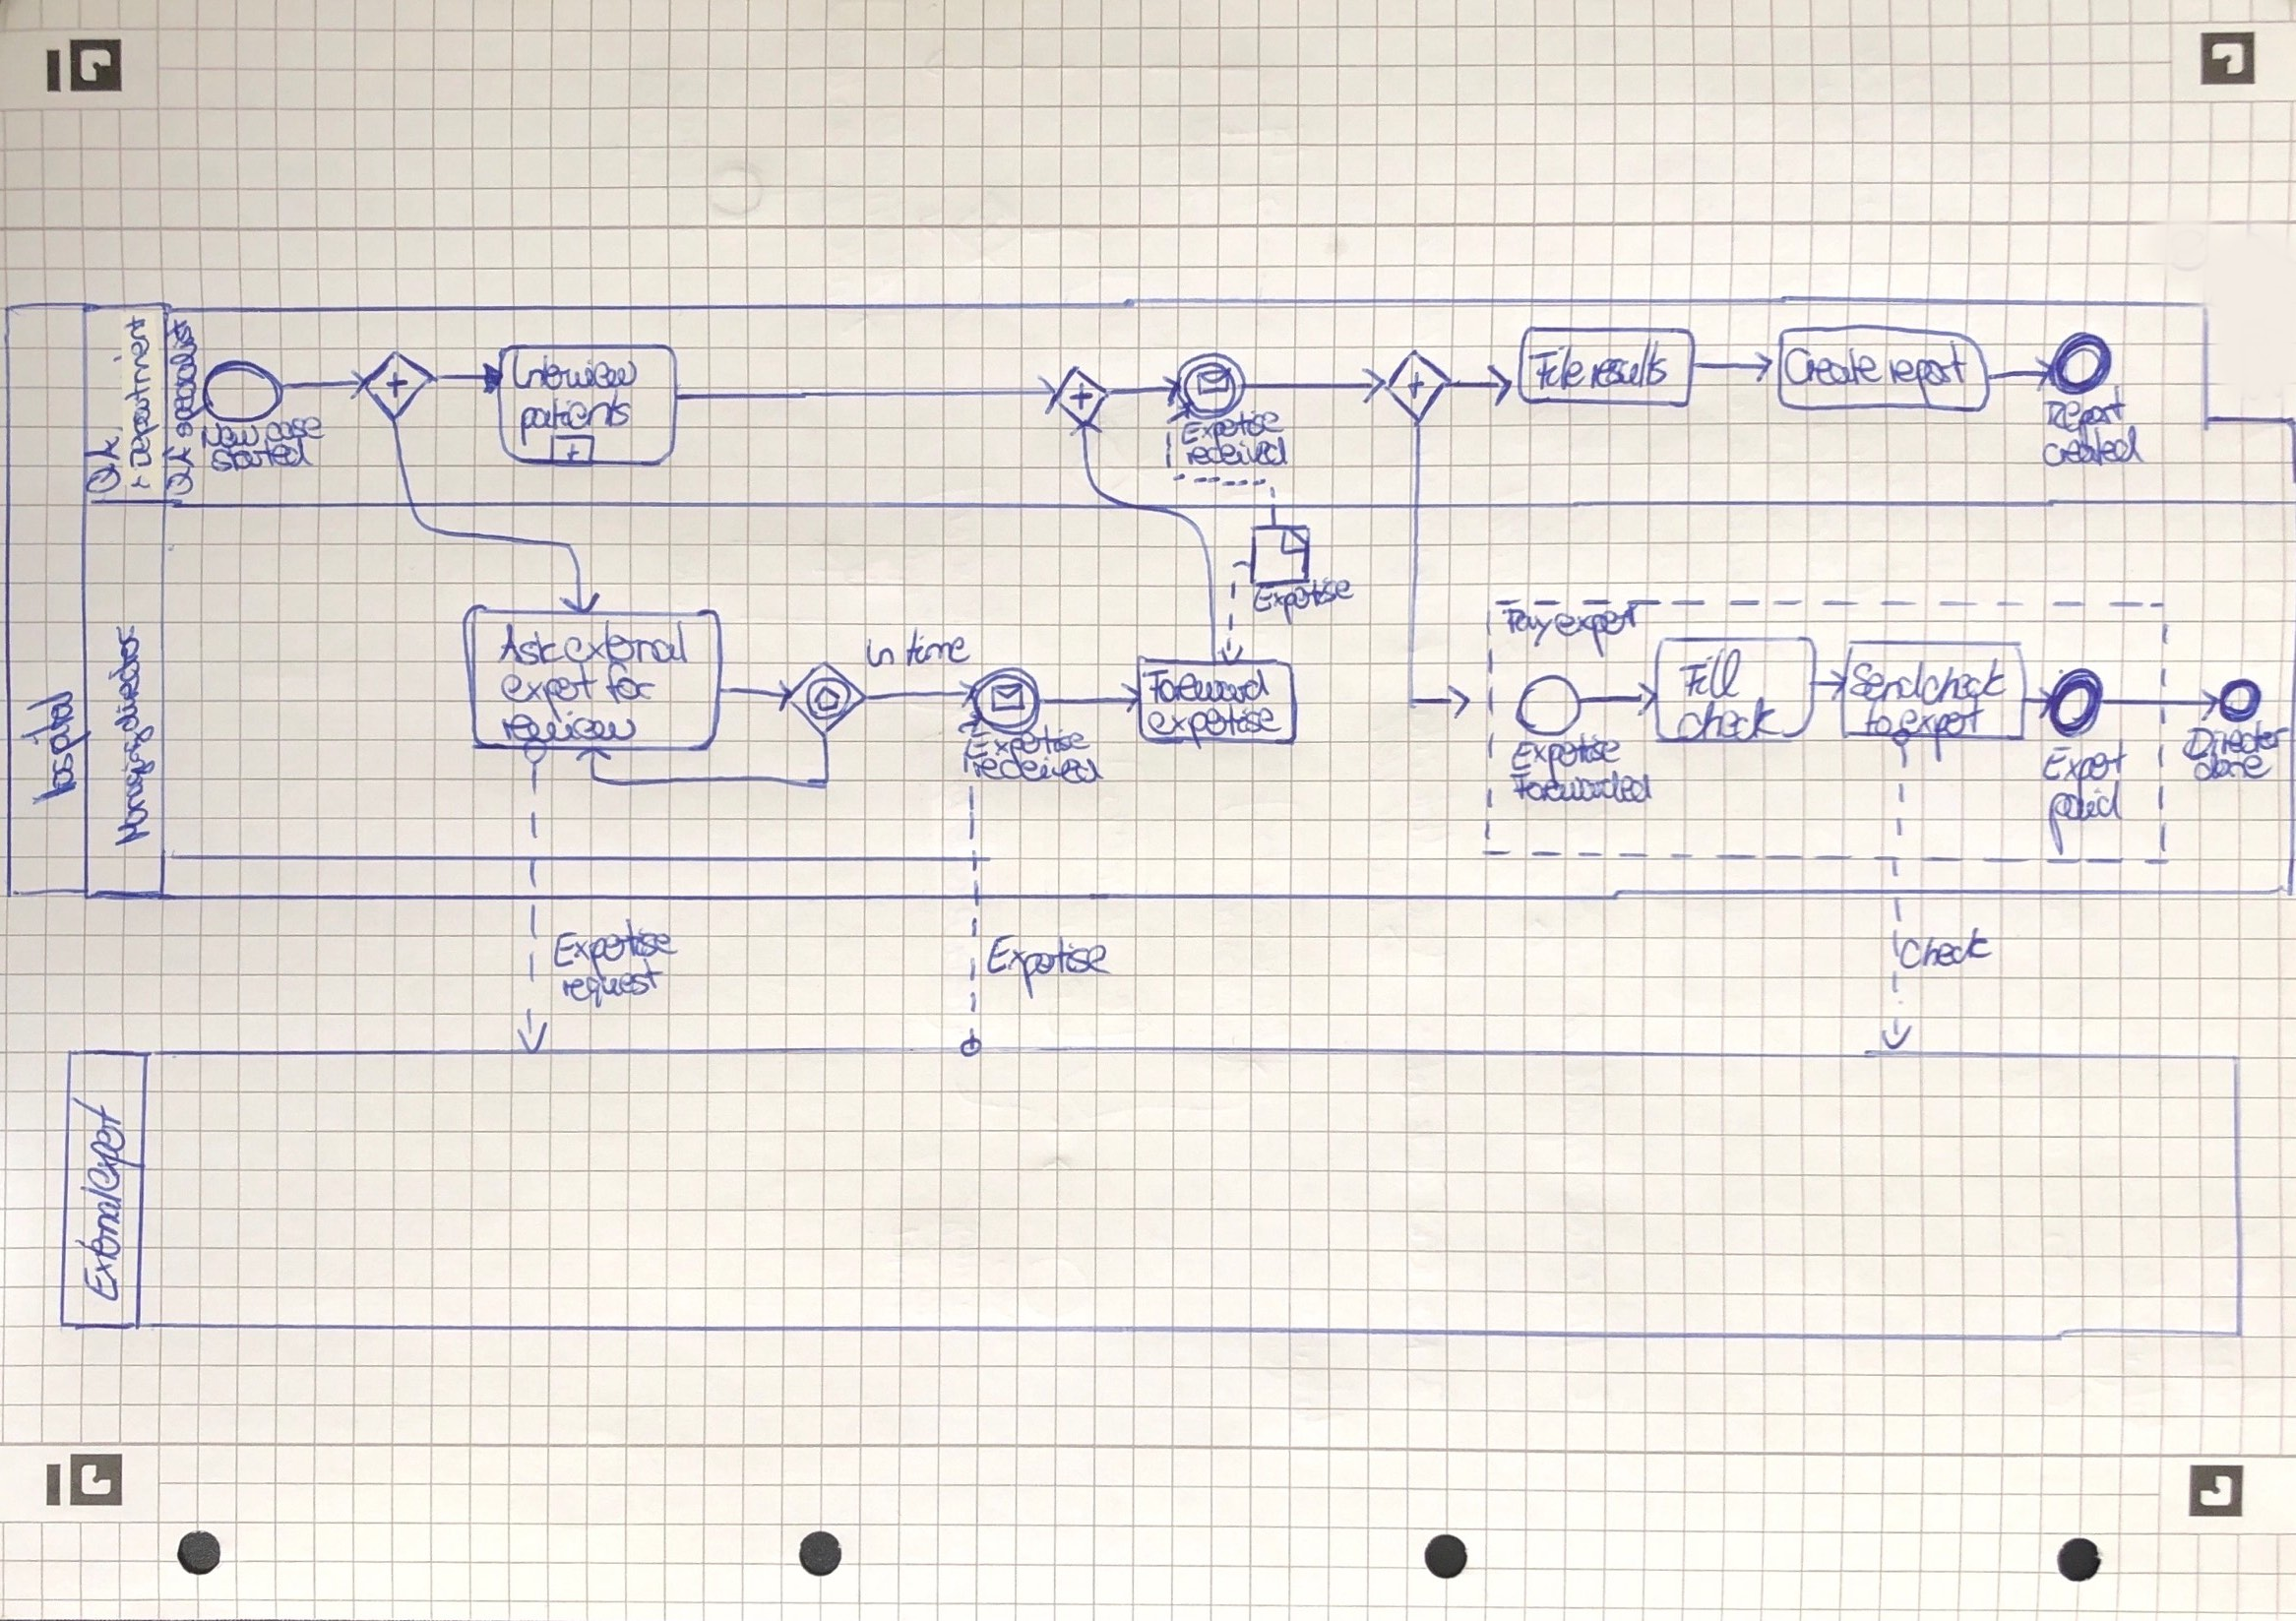Ask: (489, 617, 572, 670)
Check: (1894, 921, 1999, 975)
Create: (1779, 341, 1890, 392)
Department: (120, 312, 164, 475)
Director: (2175, 715, 2295, 767)
Expert: (2036, 733, 2134, 804)
Expertise: (979, 927, 1119, 1006), (546, 911, 684, 987), (1506, 727, 1628, 794), (959, 719, 1095, 774), (1247, 573, 1360, 633), (1174, 405, 1292, 456)
External: (63, 1180, 150, 1308)
File: (1523, 339, 1591, 396)
Fill: (1672, 644, 1749, 702)
Foreward: (1138, 663, 1276, 712)
Forewarded: (1502, 765, 1658, 809)
Interview: (505, 344, 644, 397)
Managing: (108, 719, 159, 851)
New: (194, 417, 266, 455)
Pay: (1496, 603, 1559, 654)
QA: (77, 431, 126, 498), (157, 440, 196, 501)
Send: (1843, 655, 1931, 709)
case: (259, 410, 331, 447)
check: (1670, 690, 1791, 749), (1916, 652, 2012, 712)
created: (2035, 420, 2151, 475)
director: (103, 620, 148, 735)
done: (2187, 744, 2277, 788)
expert: (64, 1090, 149, 1194), (1895, 686, 1992, 769), (496, 658, 602, 728), (1550, 598, 1645, 661)
expertise: (1143, 699, 1288, 755)
external: (559, 613, 696, 672)
for: (598, 655, 661, 711)
hospital: (14, 686, 96, 811)
in: (861, 632, 900, 672)
paid: (2042, 774, 2128, 862)
patients: (514, 384, 639, 453)
received: (967, 752, 1109, 791), (1180, 432, 1293, 473)
report: (1883, 333, 1973, 413), (2038, 381, 2132, 459)
request: (556, 953, 669, 1015)
results: (1584, 334, 1674, 395)
review: (494, 707, 643, 749)
specialist: (161, 316, 217, 441)
started: (205, 432, 320, 477)
time: (900, 622, 975, 672)
to: (1857, 696, 1897, 741)
